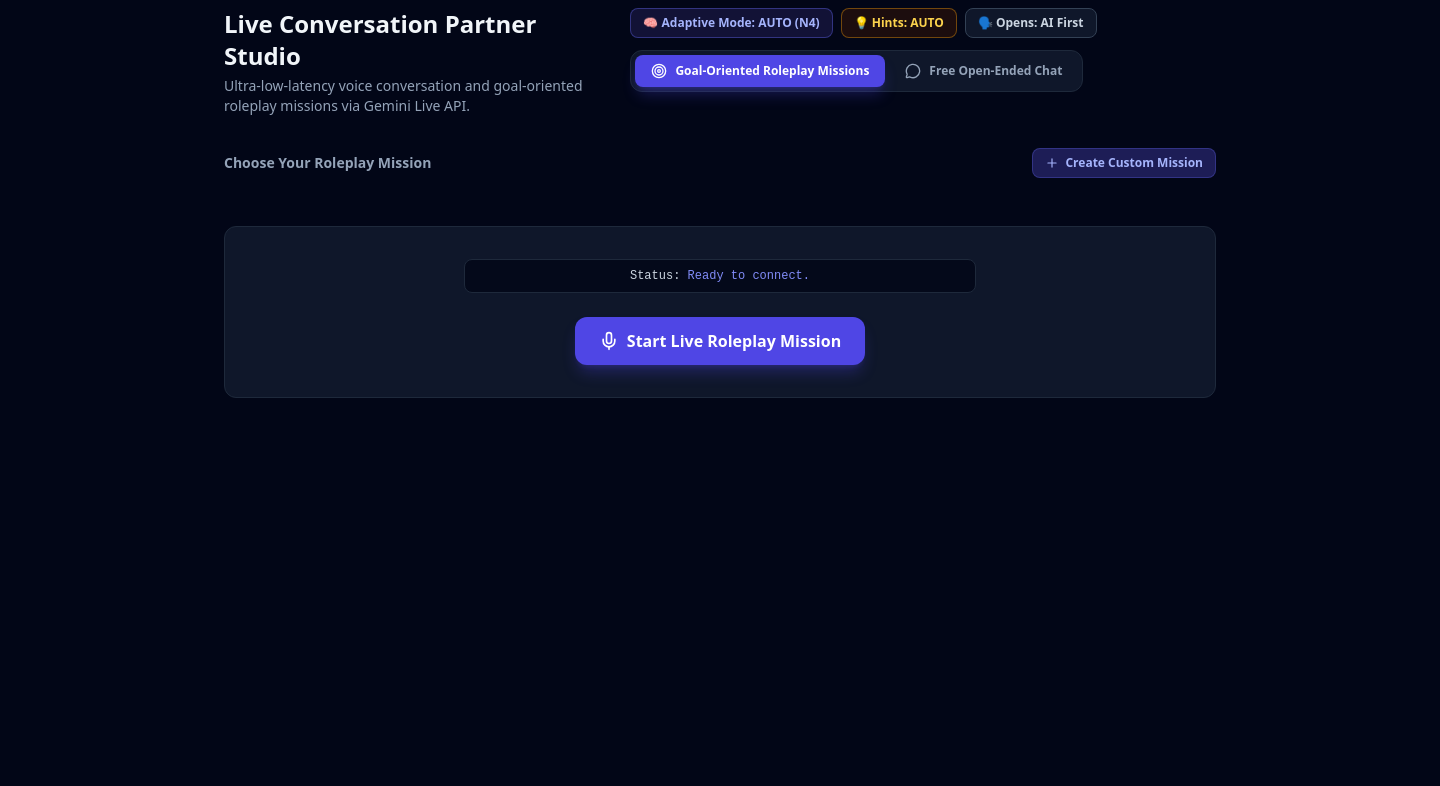
Test: LivePartnerView › renders fallback prompt when suggestionsMode is auto and suggestions fail to load
The width and height of the screenshot is (1440, 786).
Click the button "Goal-Oriented Roleplay Missions".
click(760, 71)  # box x1=635 y1=55 x2=885 y2=87
(page scrolled)
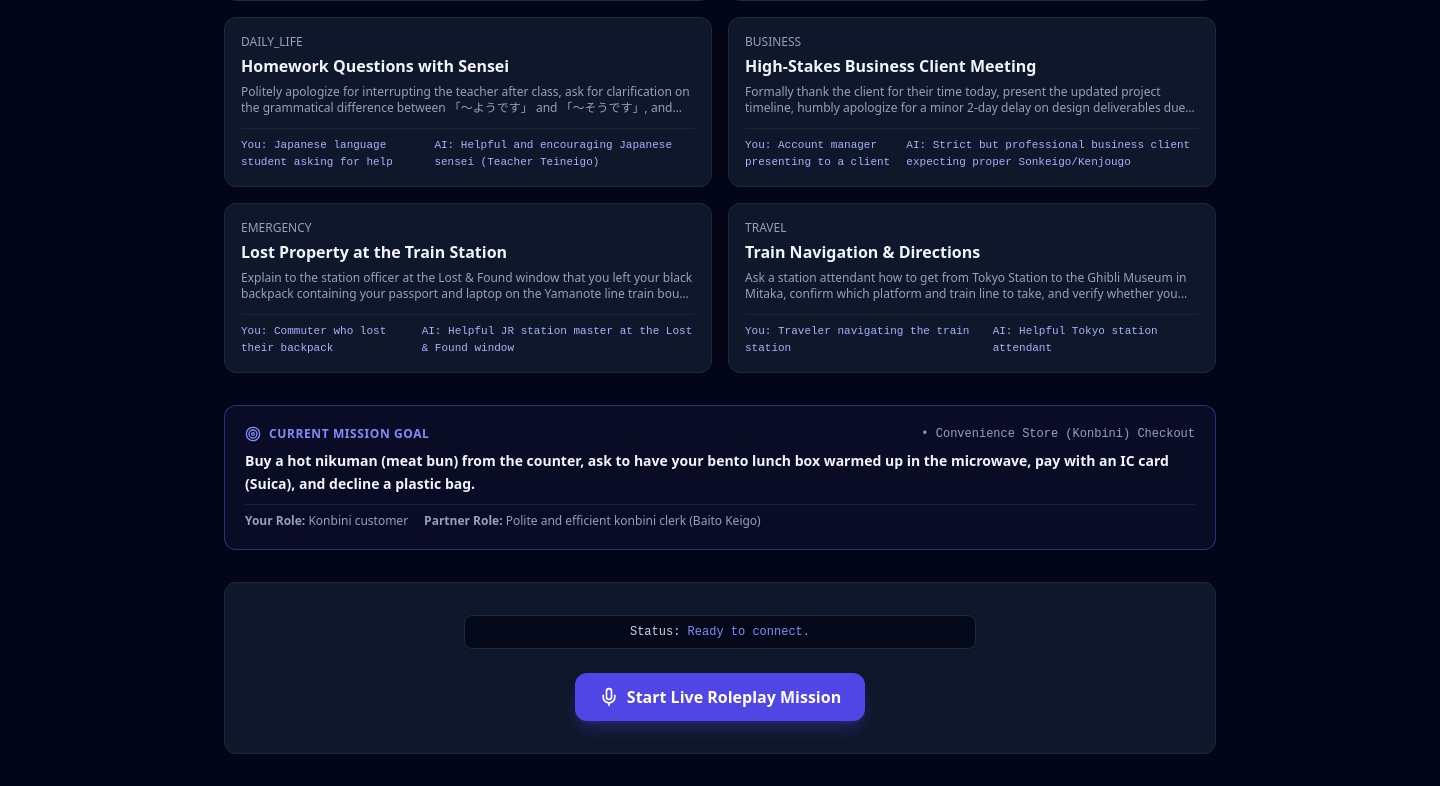
Click the button "Start Live Roleplay Mission".
click(720, 696)  # box x1=575 y1=672 x2=865 y2=720
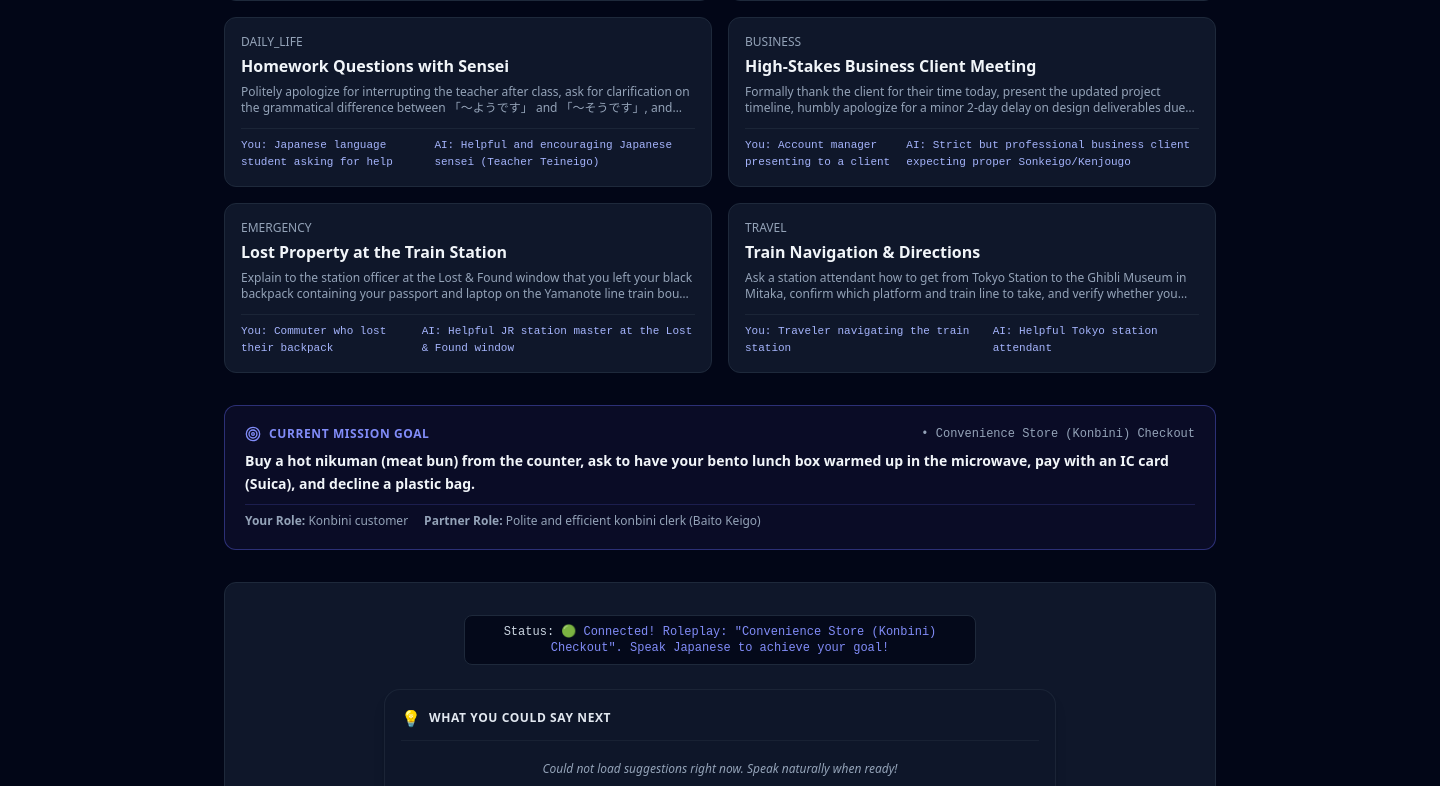
Result: the text "Could not load suggestions right now. Speak naturally when ready!" is shown at x1=542 y1=760 x2=898 y2=776
